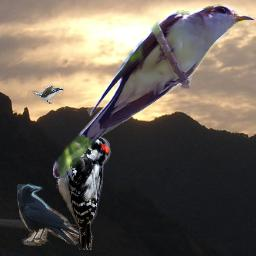Crow: (17, 183, 79, 246)
Cuckoo: (53, 4, 254, 178)
Swallow: (29, 85, 64, 104)
Woodpecker: (56, 132, 112, 250)
